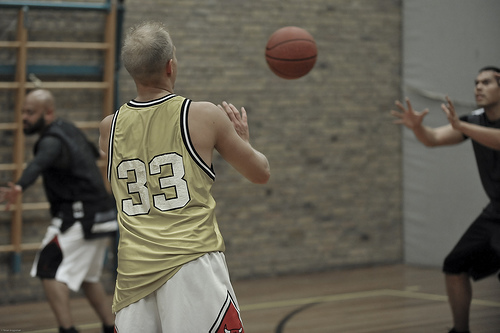basketball: (265, 26, 318, 80)
